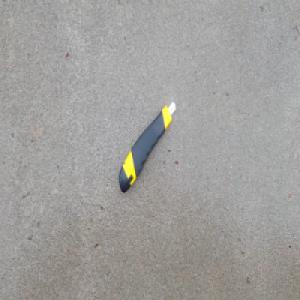Cutter: (117, 99, 178, 195)
